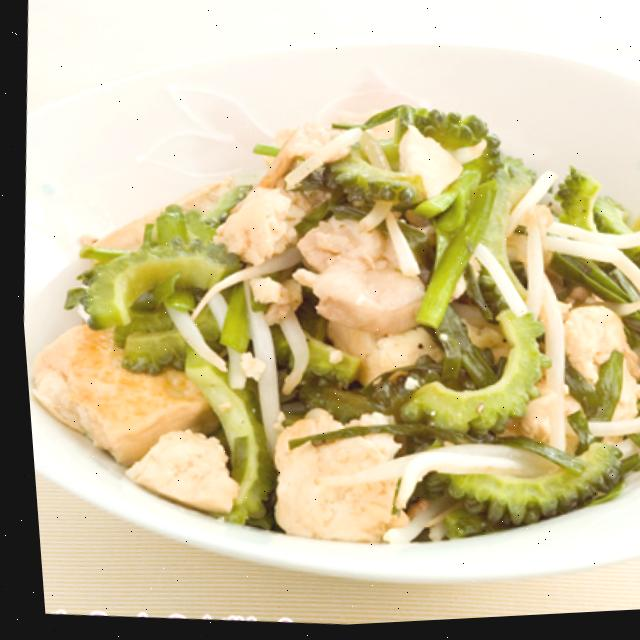熟制海鲜: (2, 11, 640, 610)
